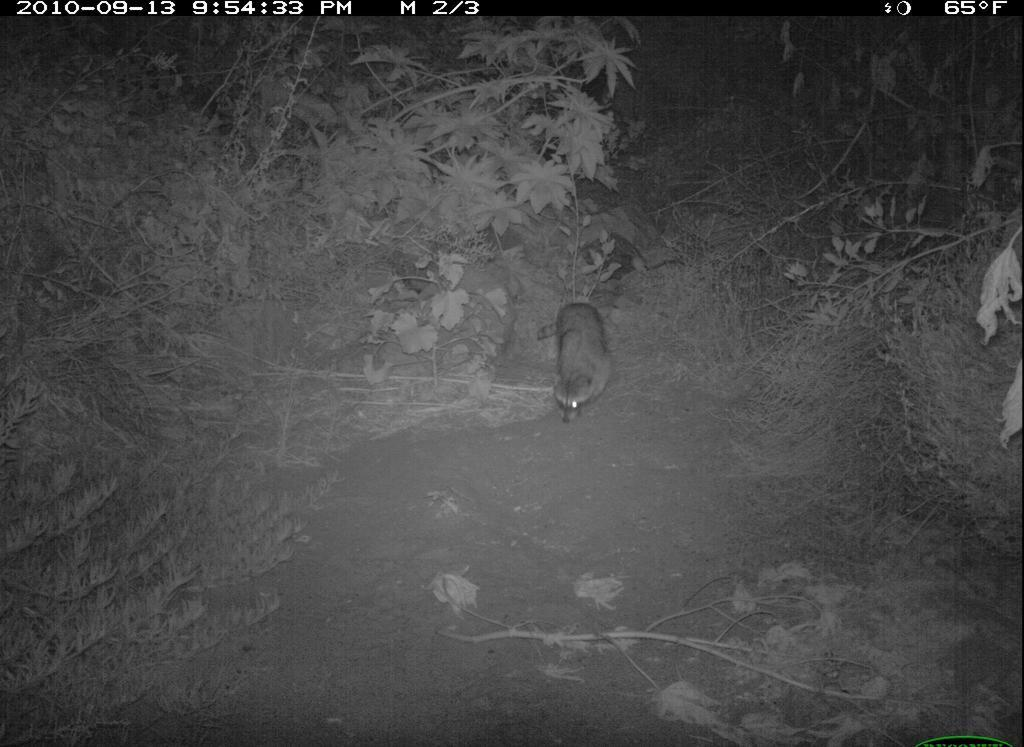raccoon: (532, 299, 625, 436)
